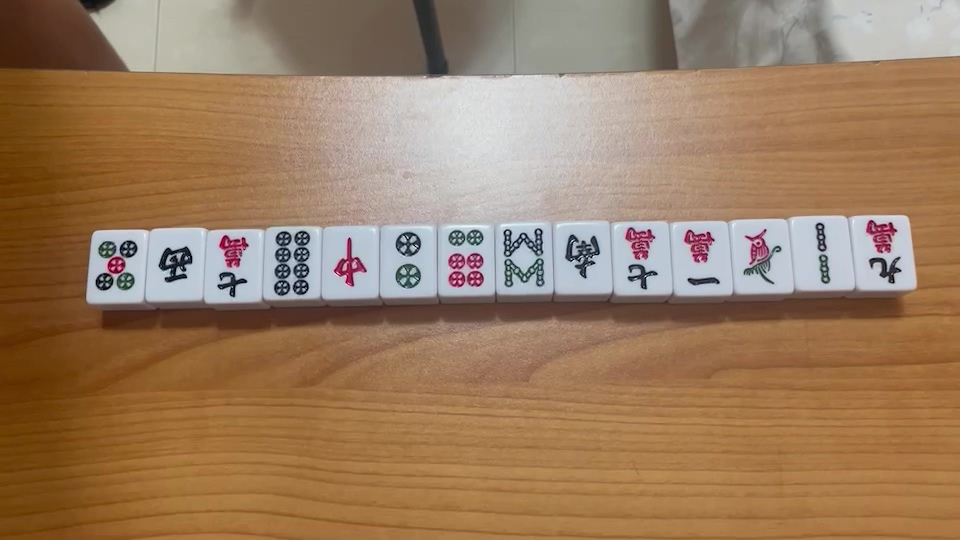b-1: (738, 226, 784, 287)
b-2: (804, 216, 838, 290)
b-8: (502, 225, 543, 290)
c-1: (679, 227, 720, 289)
c-7: (211, 233, 252, 298), (622, 224, 661, 291)
c-9: (857, 215, 910, 287)
d-2: (386, 230, 427, 292)
d-5: (90, 236, 140, 292)
d-6: (445, 229, 486, 291)
d-8: (271, 228, 313, 296)
honors-red: (333, 235, 369, 290)
honors-south: (563, 229, 604, 279)
honors-west: (156, 239, 196, 284)
